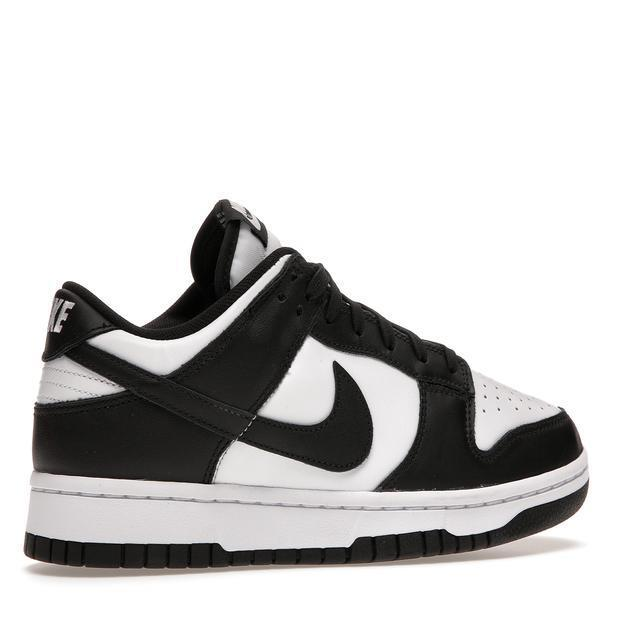J1_InsoleChar: (21, 197, 591, 572)
J1_StitchPattern: (22, 460, 590, 570), (35, 346, 375, 475), (35, 353, 261, 443), (22, 527, 495, 570), (464, 366, 568, 453), (35, 359, 122, 404), (472, 374, 553, 419), (211, 196, 269, 242), (476, 379, 527, 414), (45, 294, 77, 336)
